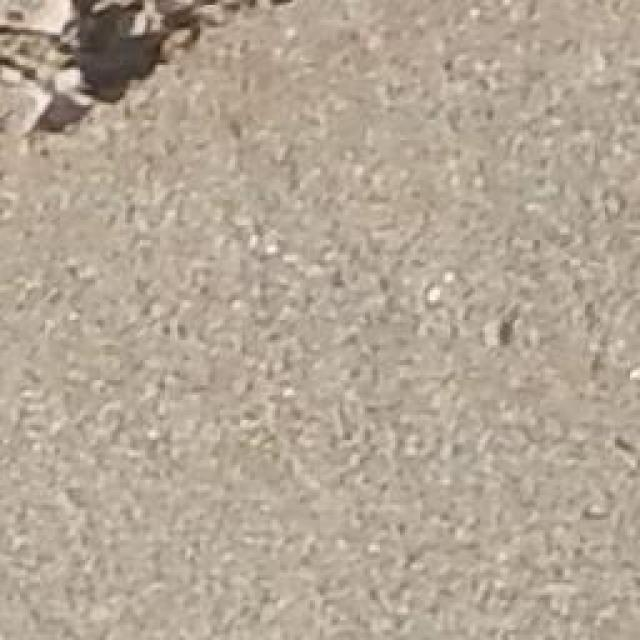concrete-crack: (0, 1, 301, 141)
